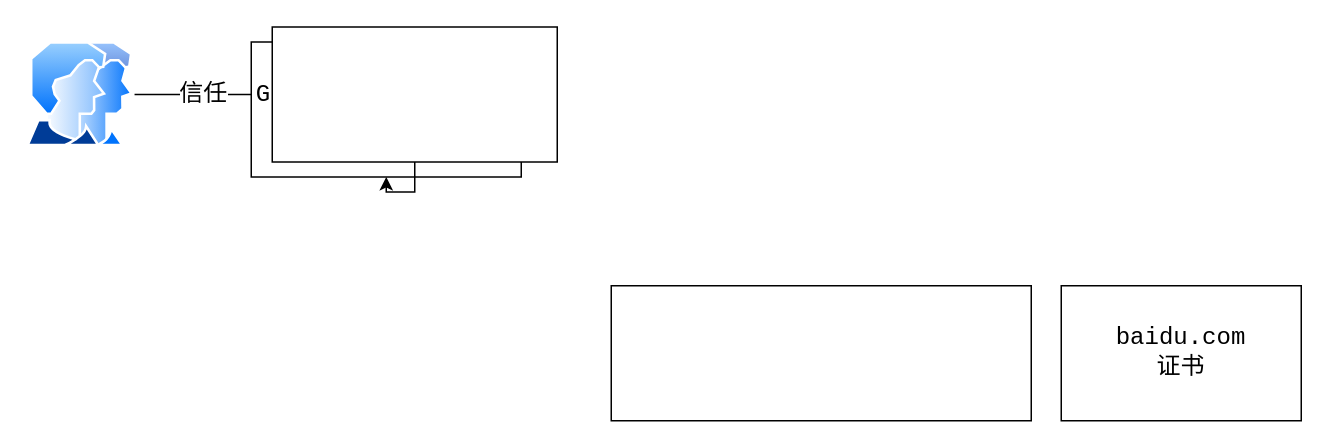
The diagram is 1328 pixels wide and 447 high, and some of its shapes have lost their labels. Here are the shapes that lost their labels. From the top down, the centre of each, then its label:
At (x=414, y=94): "操作系统或浏览器".
At (x=820, y=352): "GlobalSign Organization Validation CA - SHA256 - G2 证书".
